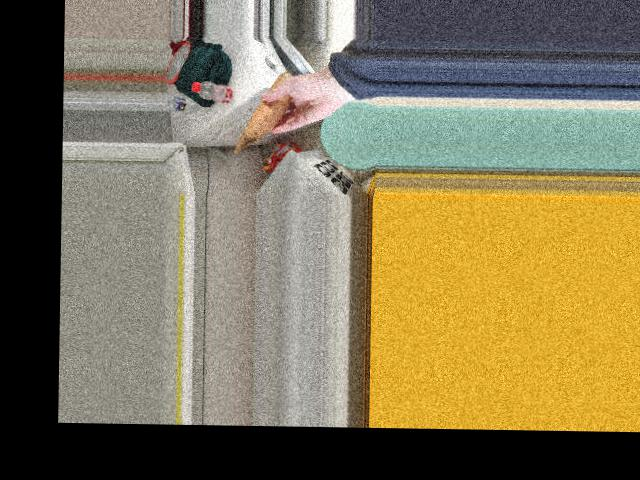sweet_potato: (255, 74, 301, 126)
